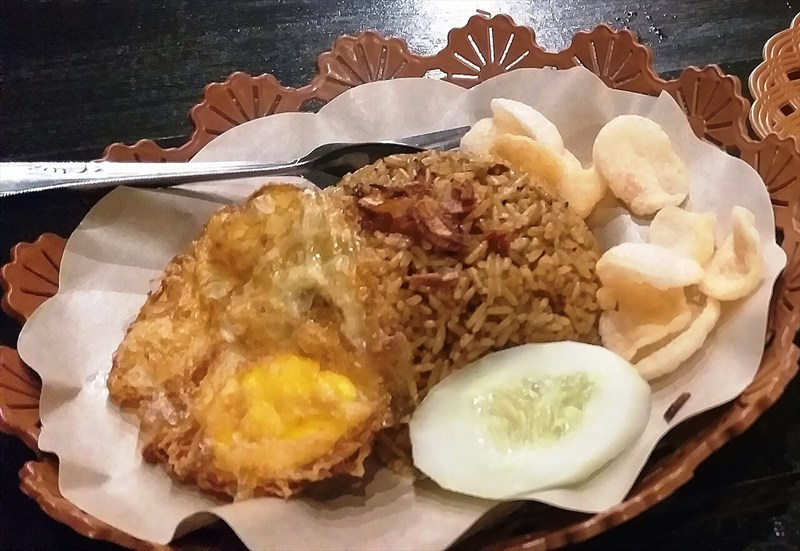Nasi Goreng: (77, 77, 743, 488)
